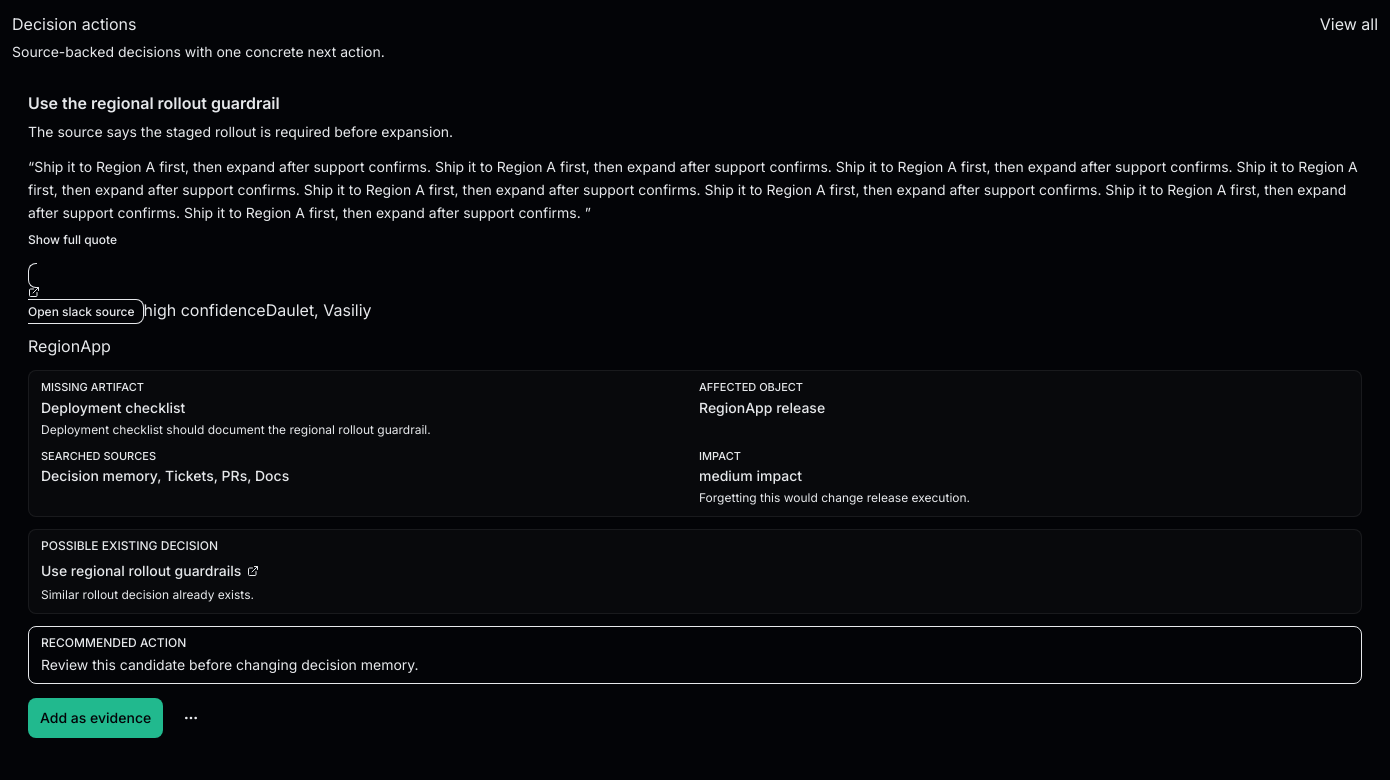
Test case: NeedsReviewSuggestions › renders source-backed candidate details, recommendation, match link, and bounded actions
The image size is (1390, 780).
expect the heading "Use the regional rollout guardrail" is shown: met, box [28, 93, 280, 113]
expect the text "Recommended action" is shown: met, box [41, 635, 186, 650]
Click the button "Show full quote" at point(73, 240), box [28, 232, 117, 248]
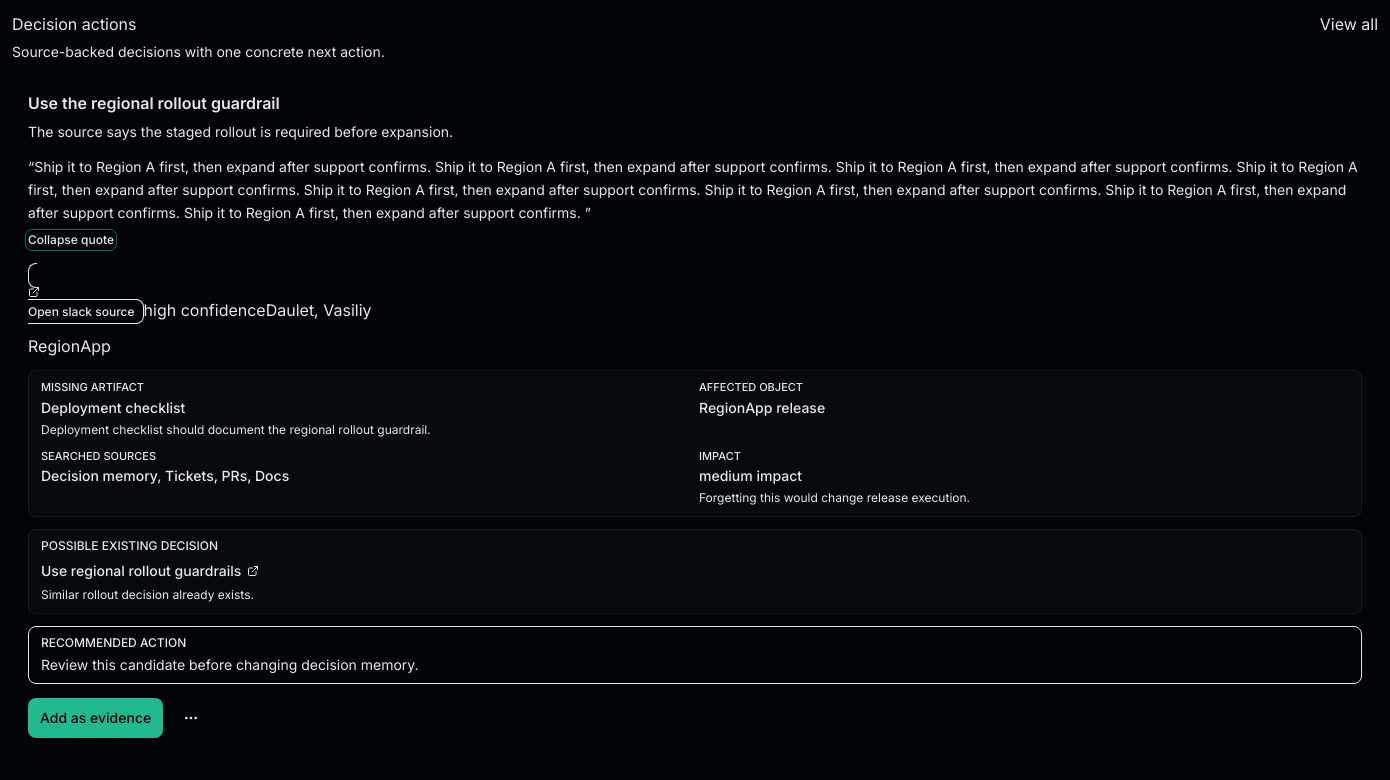
expect the text "high confidence" is shown: met, box [144, 300, 266, 320]
expect the button "Collapse quote" is shown: met, box [28, 232, 114, 248]
